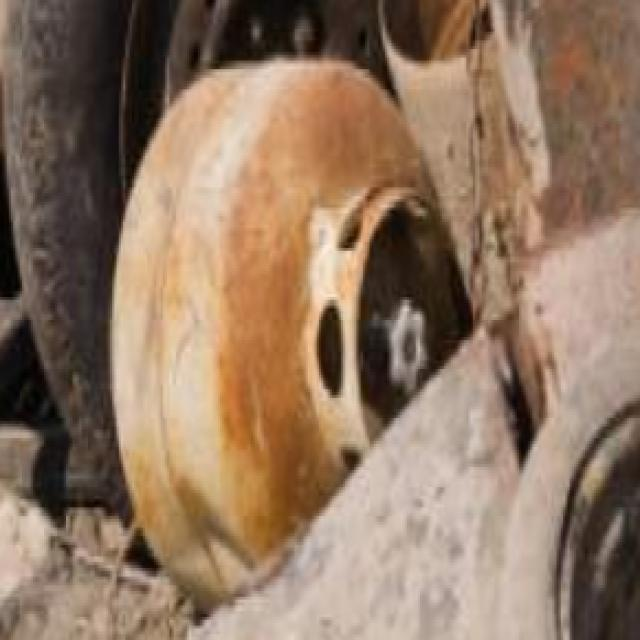cylinder: (113, 66, 473, 622)
